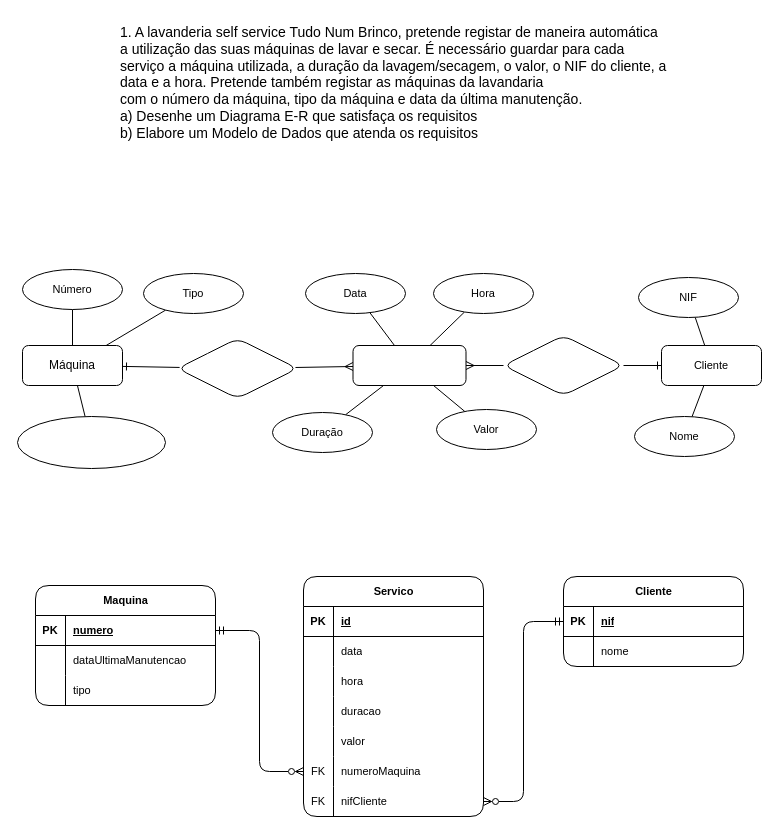
The diagram is 779 pixels wide and 834 high, and some of its shapes have lost their labels. Each missing label, with the centre of its shape:
Data Última Manutenção: pixel 91 442
Efetua: pixel 237 368
Serviço (lavagem/secagem): pixel 409 365
Utiliza: pixel 563 365
